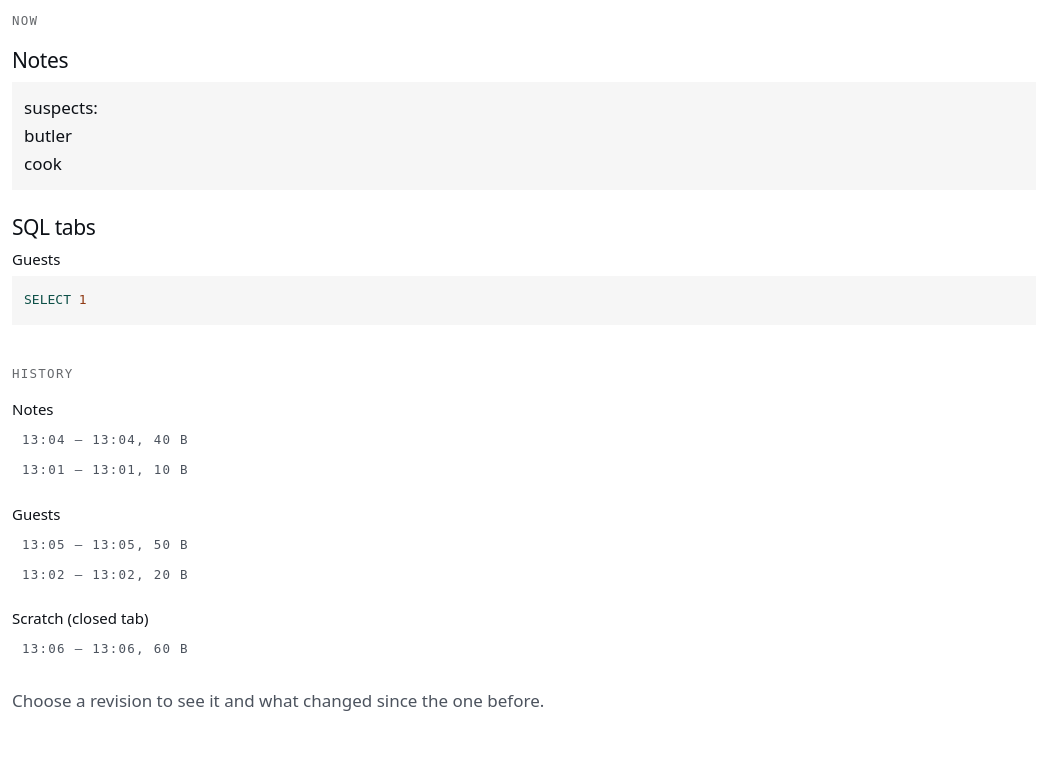
Test case: the history › says when a revision could not be read
Click the button "13:01 – 13:01, 10 B" at (105, 470), box left=12, top=457, right=1036, bottom=484
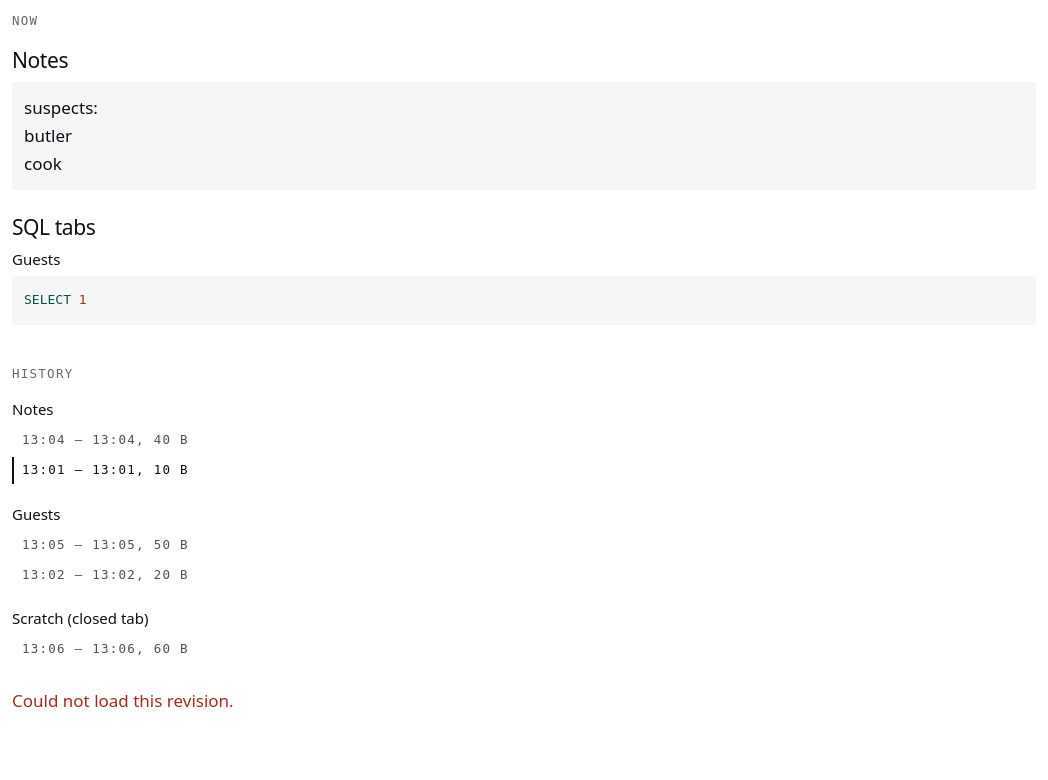
Expected: the text "Could not load this revision." is shown, left=12, top=689, right=234, bottom=712
